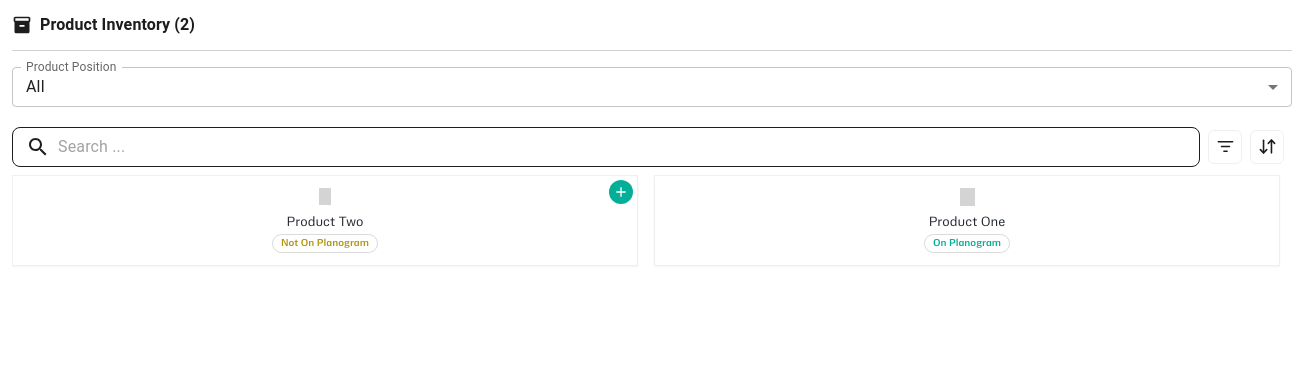
Test: ProductInventory › changes sort by option
This screenshot has width=1292, height=392.
Click the 2nd button at (1267, 147), box [1250, 130, 1284, 164]
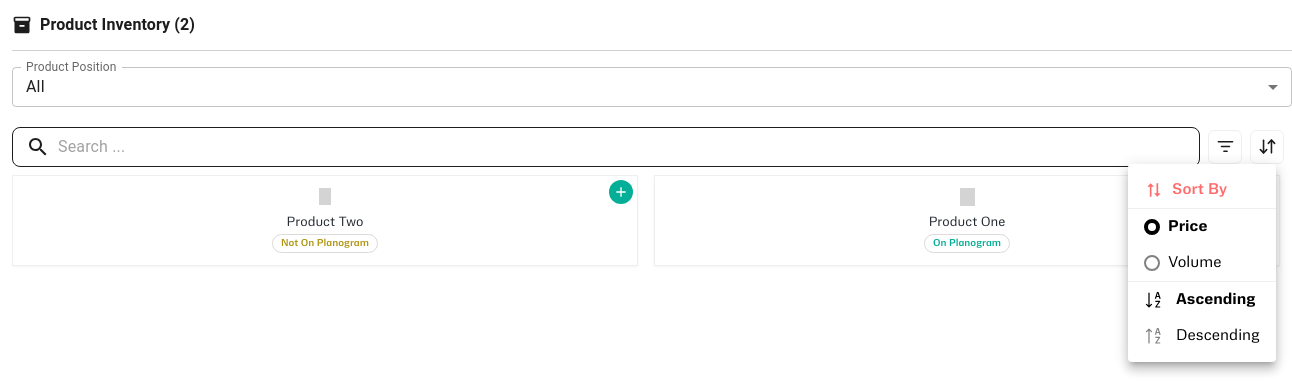
Result: the text "Sort By" is shown at [1172, 180, 1227, 200]
Click the button "Volume" at (1202, 263), box [1128, 245, 1276, 281]
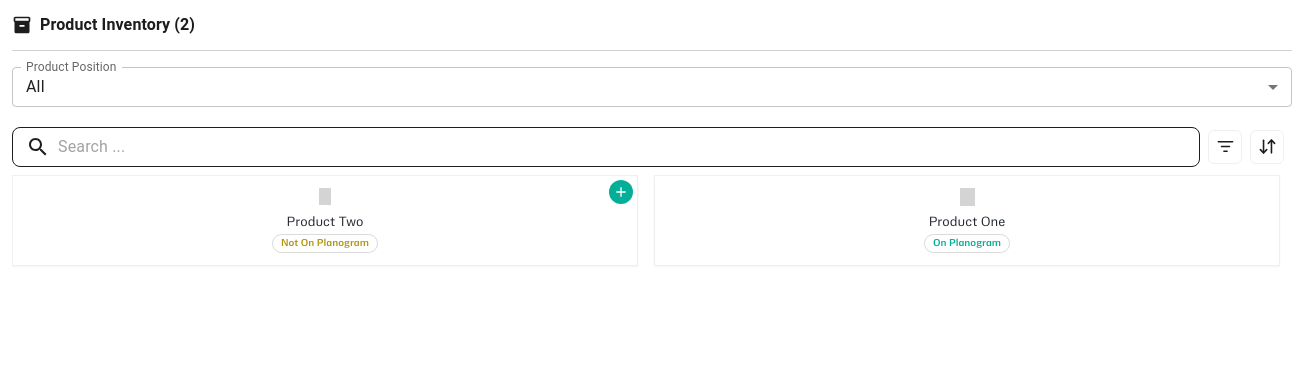
Result: the text "Sort By" is gone
